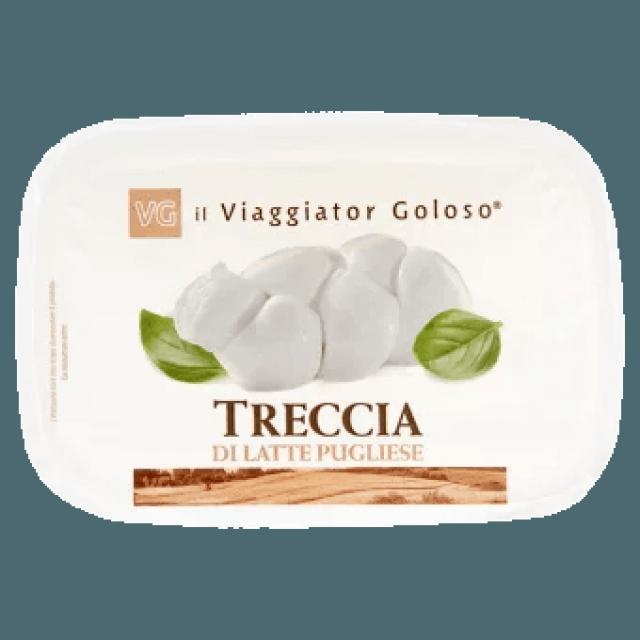Cheese: (15, 111, 627, 529)
